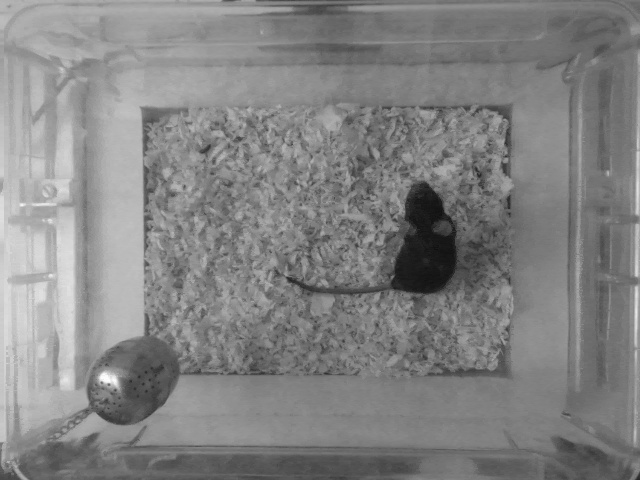mice: (282, 185, 464, 297)
